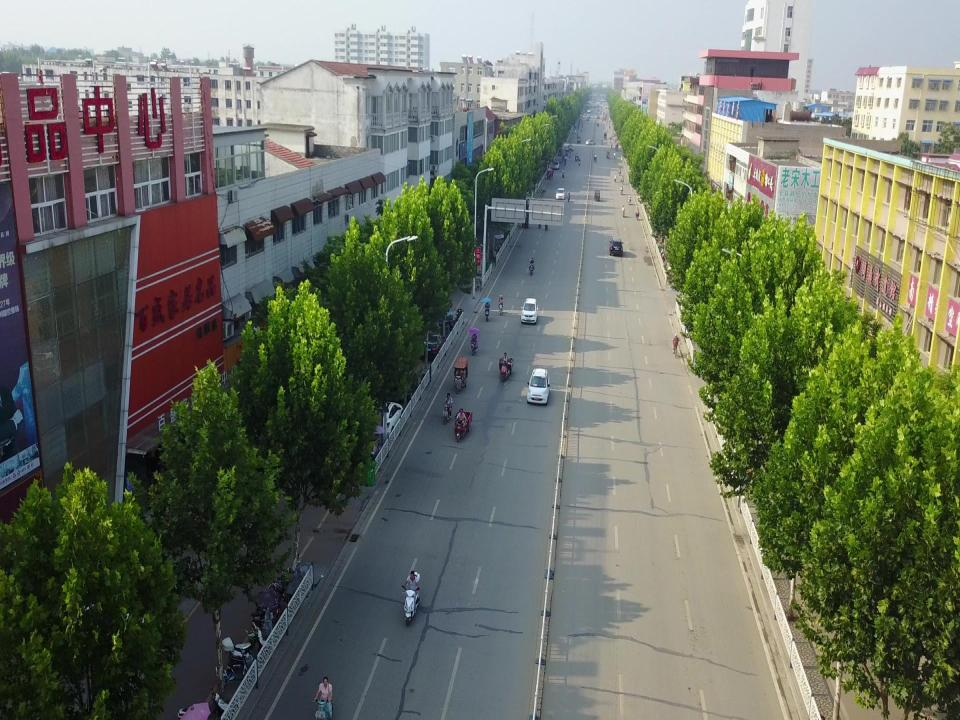car: (365, 402, 403, 437), (527, 369, 550, 404), (421, 333, 443, 356), (520, 298, 538, 324), (609, 238, 623, 256), (555, 188, 565, 200), (552, 162, 560, 170), (586, 139, 594, 146), (568, 144, 574, 150)
